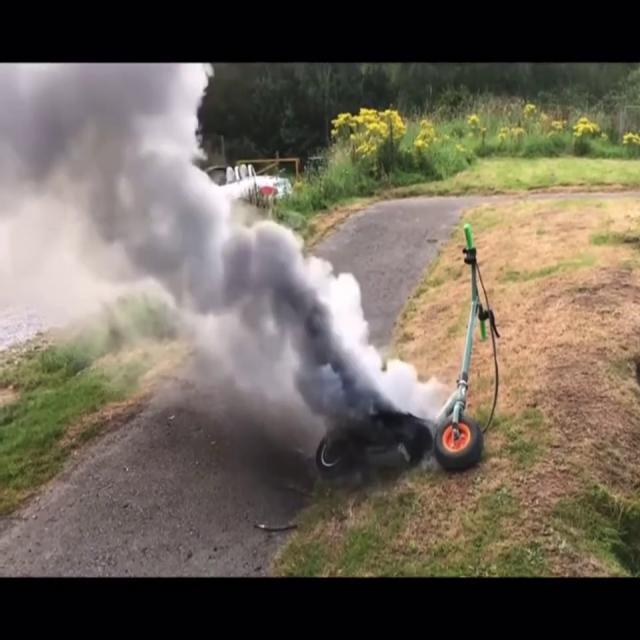Smoke: (0, 65, 238, 345), (174, 192, 386, 442)
